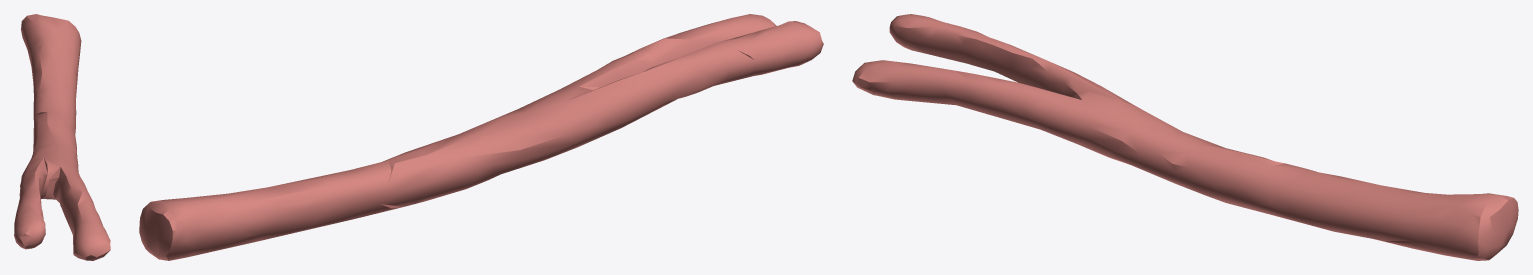
The model's file is fma223217_mm1751m.glb.
The picture shows the model from 3 angles, left to right: view 1: azimuth 30°, elevation 25°; view 2: azimuth 150°, elevation 25°; view 3: azimuth 270°, elevation 25°; orthographic projection. The views are drawn at different scales.
Visible parts, largest first — view 1: FMA223217_MM1751M; view 2: FMA223217_MM1751M; view 3: FMA223217_MM1751M.
Boxes of the visible parts, x1=… form: FMA223217_MM1751M: x1=14, y1=14, x2=110, y2=260; FMA223217_MM1751M: x1=139, y1=14, x2=823, y2=260; FMA223217_MM1751M: x1=852, y1=14, x2=1518, y2=260.
Bounding box in the file's own units: 0.0309 × 0.00773 × 0.0491.
